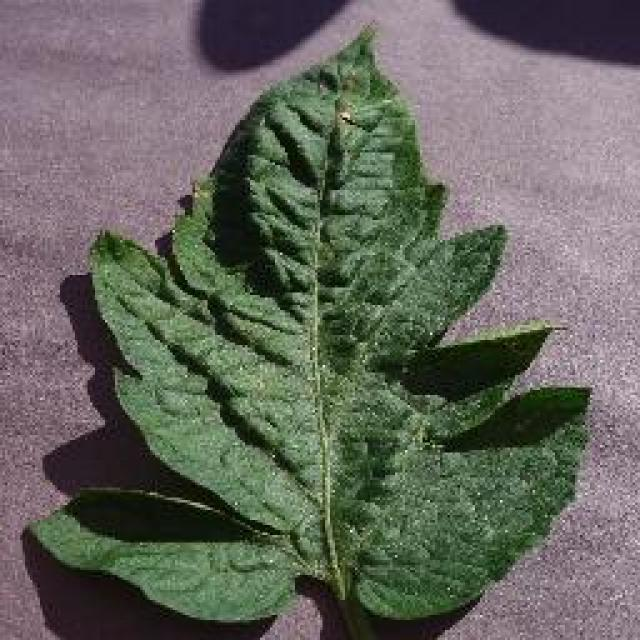Tomato Septoria spot leaf: (30, 20, 592, 630)
